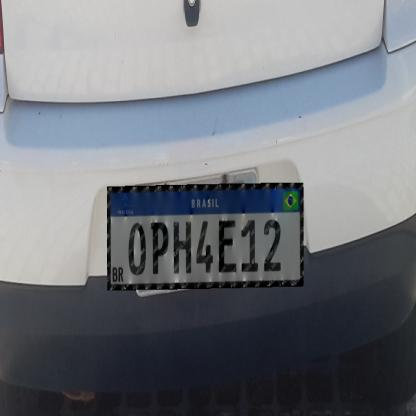PlacaM: (107, 183, 304, 290)
